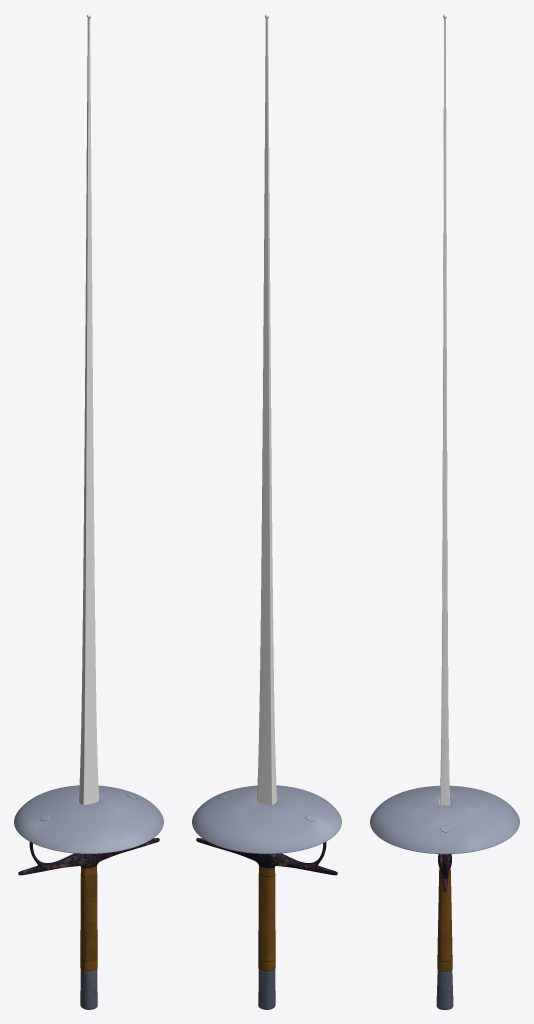
File: fencer_sword.glb
3 views of the same model, side by side, from view 1: azimuth 30°, elevation 25°; view 2: azimuth 150°, elevation 25°; view 3: azimuth 270°, elevation 25° (orthographic).
Visible parts, largest first — view 1: 11748_sword_v1_l2; view 2: 11748_sword_v1_l2; view 3: 11748_sword_v1_l2.
Part boxes in pixels (left/top/right/bottom): 11748_sword_v1_l2: left=14, top=14, right=163, bottom=1009; 11748_sword_v1_l2: left=192, top=14, right=341, bottom=1009; 11748_sword_v1_l2: left=370, top=14, right=519, bottom=1009.
Size of the model in its own units: 13.19 by 89.05 by 12.19.
5 materials, 4 textured.
